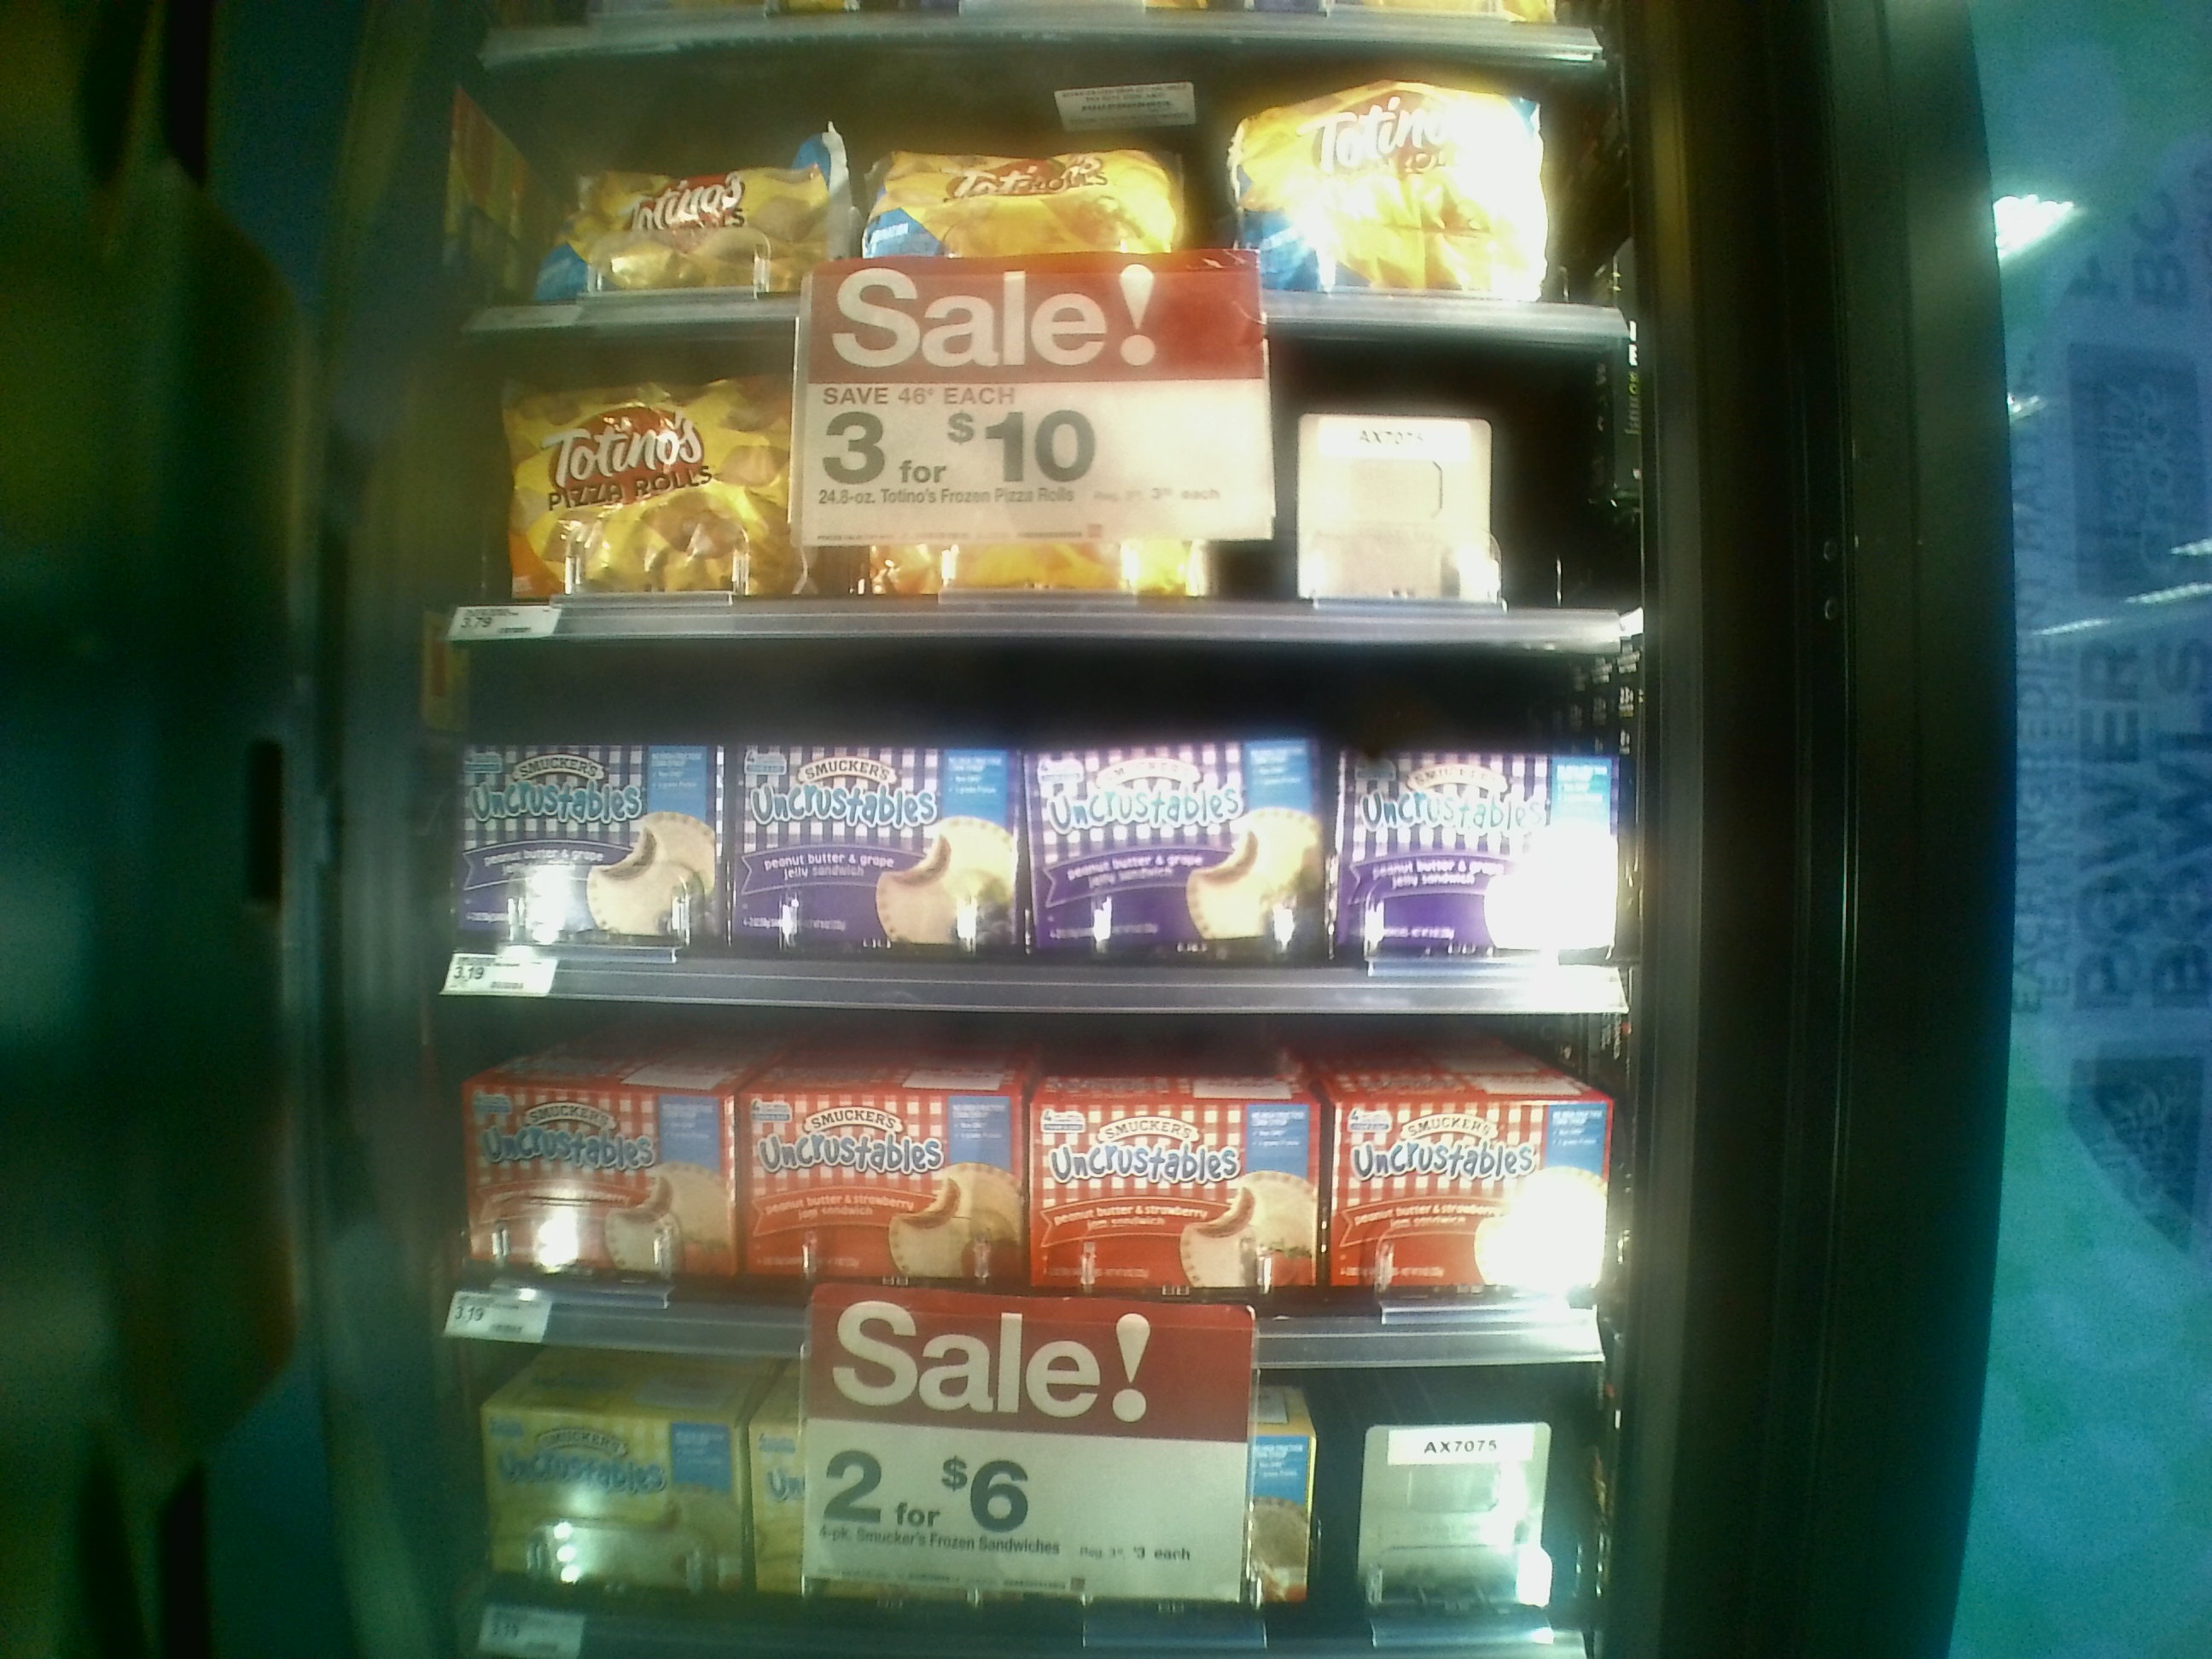shelf: (418, 631, 1635, 1023), (409, 1007, 1601, 1398), (401, 301, 1630, 655)
